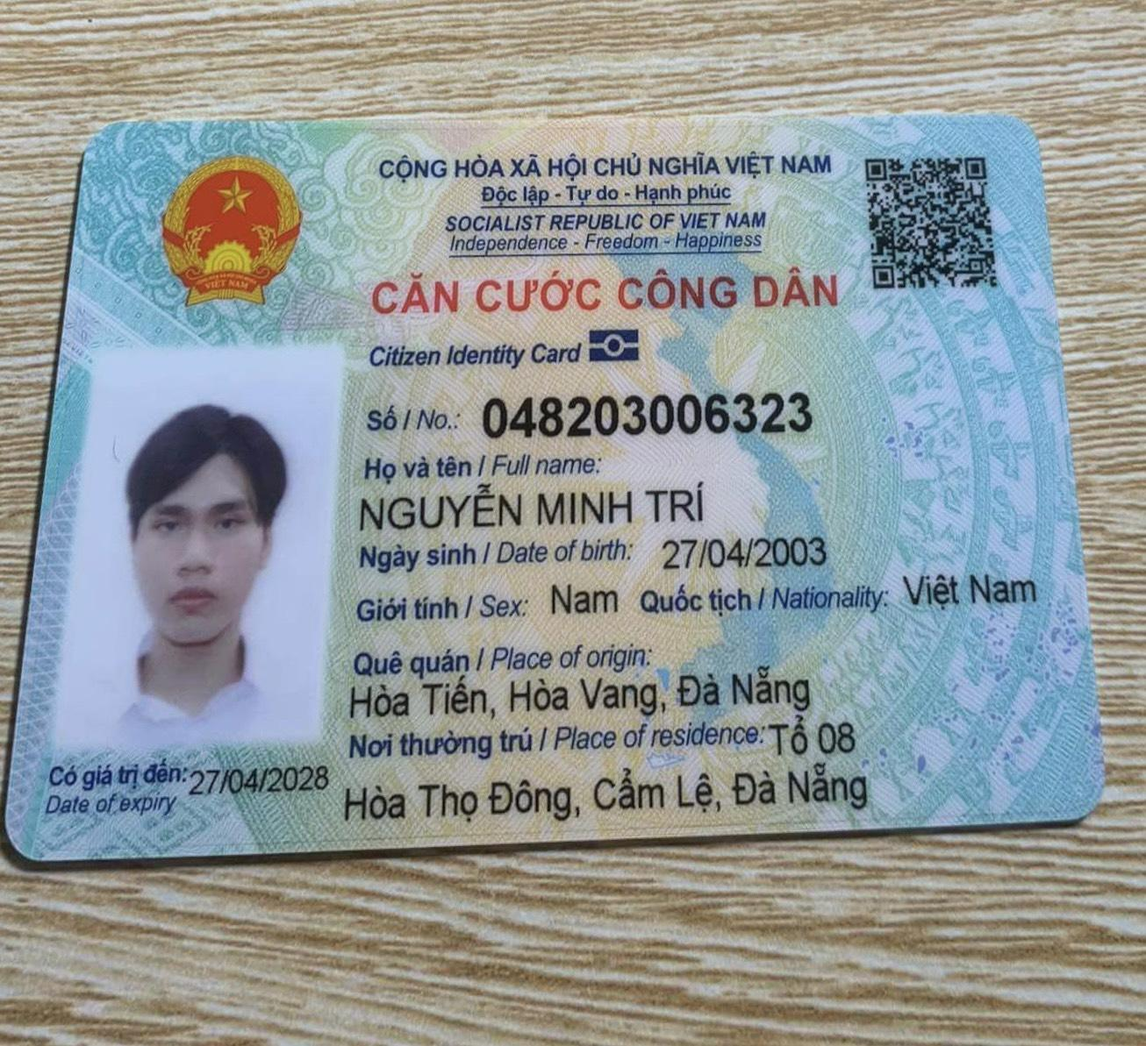ID: (472, 382, 816, 448)
birth: (655, 527, 842, 580)
name: (345, 476, 714, 537)
place: (332, 663, 840, 726)
residence: (335, 757, 873, 827), (764, 711, 865, 761)
